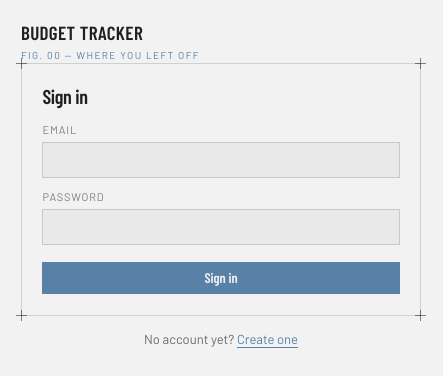
signing in › refuses to submit without an email
Step 1. Click the button "Sign in" → (221, 278), box [42, 262, 400, 294]
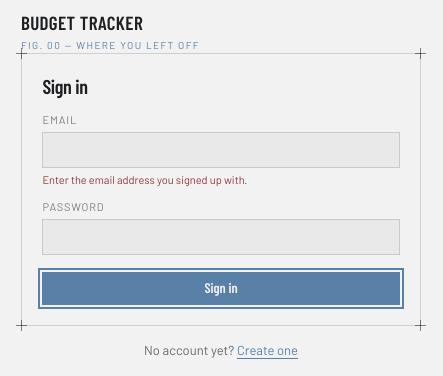
Now the message shows "Enter the email address", box [42, 173, 247, 186]
